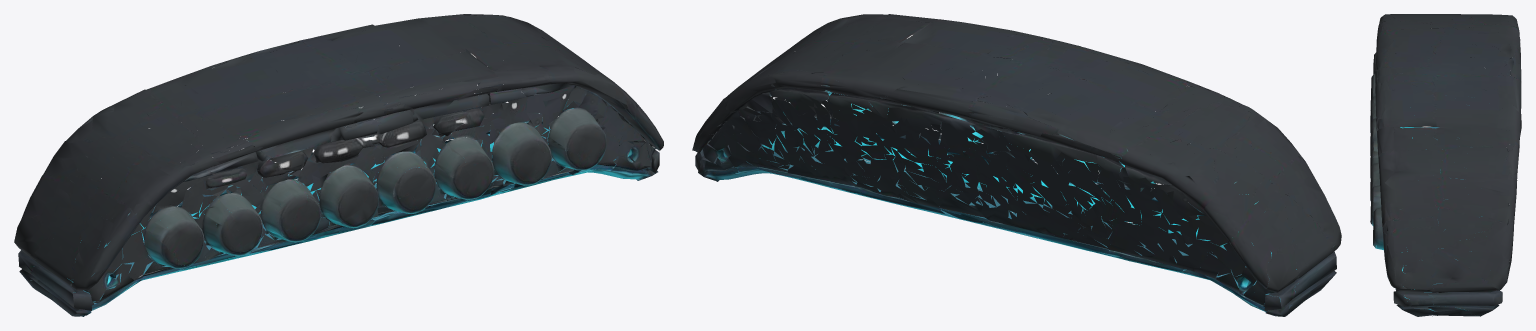
The model's file is overhead_dash.glb.
The picture shows the model from 3 angles, left to right: view 1: azimuth 30°, elevation 25°; view 2: azimuth 150°, elevation 25°; view 3: azimuth 270°, elevation 25°; orthographic projection. The views are drawn at different scales.
Parts seen in each view (by area): view 1: tripo_part_0, tripo_part_2, tripo_part_1, tripo_part_8, tripo_part_5, tripo_part_3, tripo_part_9, tripo_part_10, tripo_part_6, tripo_part_4, tripo_part_7, tripo_part_11; view 2: tripo_part_0, tripo_part_2, tripo_part_1; view 3: tripo_part_0, tripo_part_1, tripo_part_7, tripo_part_8, tripo_part_9, tripo_part_3, tripo_part_10, tripo_part_6, tripo_part_5.
Boxes of the visible parts, x1,y1,x2,y2 form: tripo_part_0: (14,14,663,290); tripo_part_2: (53,32,655,302); tripo_part_1: (18,114,659,316); tripo_part_8: (492,122,551,185); tripo_part_5: (202,188,262,256); tripo_part_3: (376,149,436,213); tripo_part_9: (434,137,493,200); tripo_part_10: (319,163,378,228); tripo_part_6: (257,179,321,242); tripo_part_4: (144,206,204,268); tripo_part_7: (548,107,606,172); tripo_part_11: (205,168,246,189); tripo_part_0: (692,14,1341,292); tripo_part_2: (700,50,1332,305); tripo_part_1: (695,111,1336,316); tripo_part_0: (1375,14,1521,292); tripo_part_1: (1393,79,1502,316); tripo_part_7: (1373,207,1383,250); tripo_part_8: (1370,185,1381,225); tripo_part_9: (1370,162,1379,200); tripo_part_3: (1370,140,1378,177); tripo_part_10: (1370,118,1377,155); tripo_part_6: (1370,96,1376,132); tripo_part_5: (1370,73,1375,104).
Bounding box in the file's own units: 0.9 × 0.2423 × 0.2517.
1 material, 1 textured.
